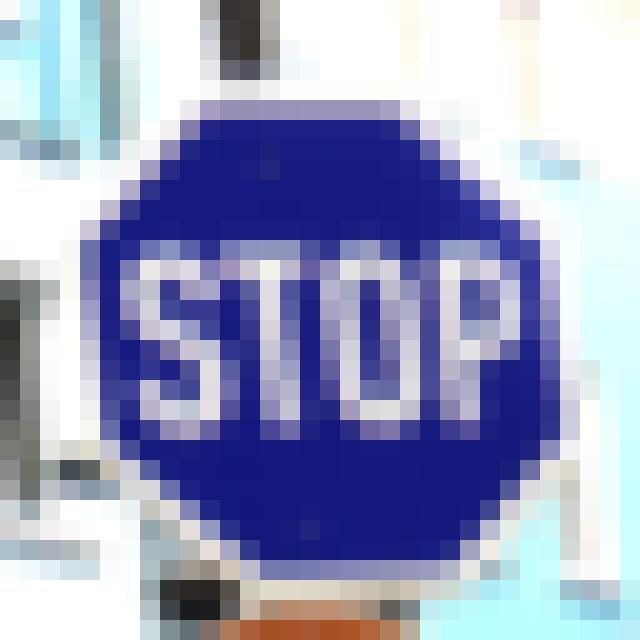STOP: (72, 84, 582, 572)
